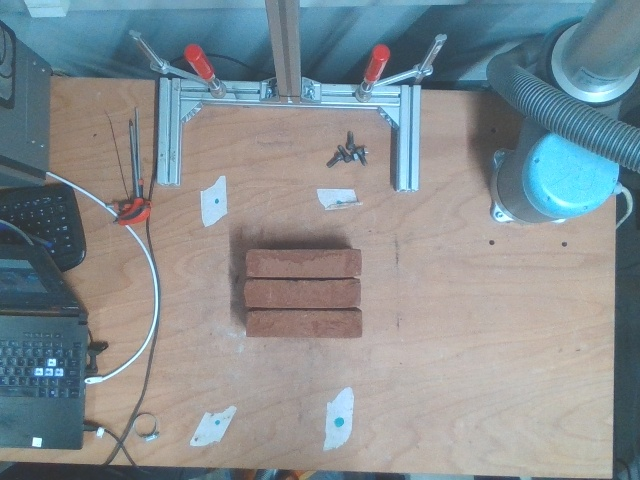brick-side: (241, 277, 359, 306), (242, 309, 360, 338), (243, 250, 361, 279)
